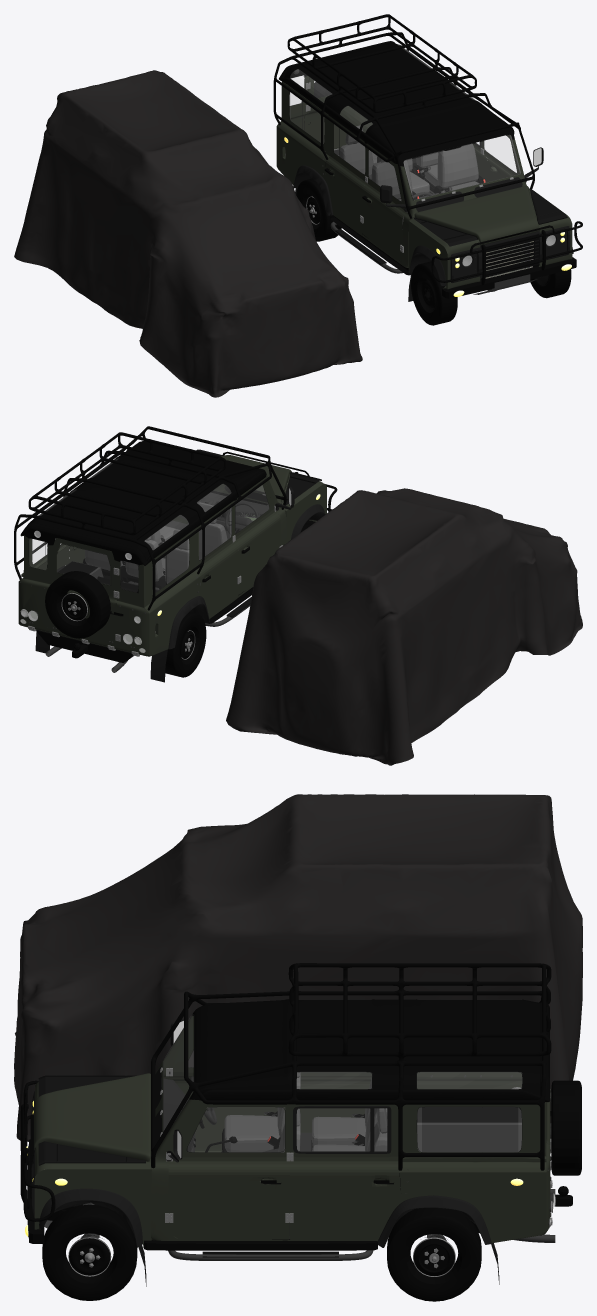
File: land-rover-defender-110.glb
3 renders of one model, top to bottom at view 1: azimuth 30°, elevation 25°; view 2: azimuth 150°, elevation 25°; view 3: azimuth 270°, elevation 25°, orthographic. The views are drawn at different scales.
Visible parts, largest first — view 1: Plane.072_329, backframe_2, roofbar_302, frontleftdoor.010_173, hood_260, frontleftdoor.000_163, backleftdoor.000_22, frontrighttire_331, frontbar_156, Cube.009_81, grill.001_253, frontframe.001_159 (+18 smaller); view 2: Plane.072_329, backframe_2, roofbar_302, frontleftdoor.000_163, backlefttire.001_40, backleftdoor.000_22, backframe.014_16, Plane.001_271, backrighttire_60, backdoor.000_0, frame_154, frontleftdoor.009_172 (+15 smaller); view 3: Plane.072_329, backframe_2, roofbar_302, frontleftdoor.001_164, backleftdoor.001_23, hood_260, frontlefttire_330, Plane.001_271, backlefttire_39, frontleftdoor.006_169, frontleftdoor.003_166, frontframe_158 (+19 smaller).
Part boxes in pixels (x1,y1,x2,y2): Plane.072_329: (14,70,362,397); backframe_2: (276,41,530,267); roofbar_302: (273,14,534,218); frontleftdoor.010_173: (404,135,520,199); hood_260: (414,186,539,245); frontleftdoor.000_163: (362,143,406,260); backleftdoor.000_22: (325,117,366,233); frontrighttire_331: (411,261,457,325); frontbar_156: (431,221,582,285); Cube.009_81: (437,143,478,188); grill.001_253: (485,234,539,277); frontframe.001_159: (409,189,572,289); Plane.072_329: (226,488,582,765); backframe_2: (18,441,286,656); roofbar_302: (14,426,286,610); frontleftdoor.000_163: (233,479,280,594); backlefttire.001_40: (45,571,110,638); backleftdoor.000_22: (195,501,238,616); backframe.014_16: (47,538,117,645); Plane.001_271: (57,490,269,590); backrighttire_60: (165,611,206,677); backdoor.000_0: (57,545,109,584); frame_154: (36,576,157,662); frontleftdoor.009_172: (156,539,188,591); Plane.072_329: (14,794,582,1141); backframe_2: (151,999,550,1242); roofbar_302: (151,963,551,1170); frontleftdoor.001_164: (168,1102,289,1239); backleftdoor.001_23: (290,1104,401,1239); hood_260: (34,1073,150,1161); frontlefttire_330: (42,1204,137,1300); Plane.001_271: (161,1078,521,1239); backlefttire_39: (387,1208,481,1301); frontleftdoor.006_169: (417,1107,521,1151); frontleftdoor.003_166: (187,1107,284,1151); frontframe_158: (34,1169,151,1247).
Bounding box in the file's own units: 46.48 × 19.03 × 37.91.
23 materials, 3 textured.
